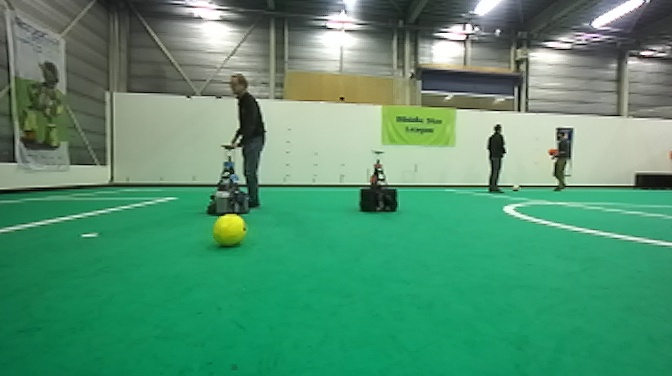ball: (211, 212, 247, 250), (510, 182, 521, 192), (542, 146, 552, 157)
human: (227, 74, 268, 208), (482, 123, 507, 193), (546, 129, 572, 192)
robot: (205, 143, 252, 217), (358, 150, 399, 214)
